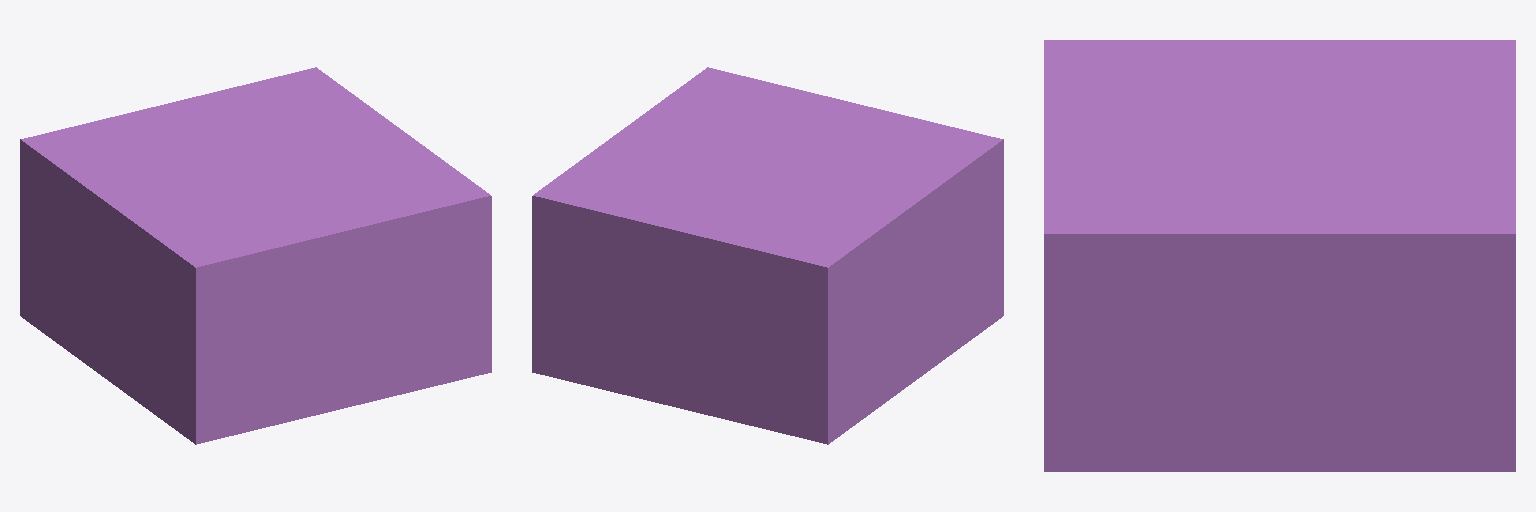
robot.urdf — random_box:
<?xml version='1.0' encoding='UTF-8'?>
<robot name="random_box">
  <link name="box">
    <visual>
      <geometry>
        <box size="0.05246442374089519 0.05382462732634255 0.03"/>
      </geometry>
      <material name="color">
        <color rgba="0.7644910906174824 0.5423491929866385 0.8360857453028946 1"/>
      </material>
    </visual>
    <collision>
      <geometry>
        <box size="0.05246442374089519 0.05382462732634255 0.03"/>
      </geometry>
    </collision>
  </link>
</robot>

--- Render facts (derived) ---
The picture shows the robot from 3 angles, left to right: view 1: azimuth 30°, elevation 25°; view 2: azimuth 150°, elevation 25°; view 3: azimuth 270°, elevation 25°; orthographic projection.
Model random_box with 1 links and 0 joints (none), rooted at box, posed every joint at zero.
Links seen in each view (by area): view 1: box; view 2: box; view 3: box.
Boxes of the visible links, x1,y1,x2,y2 form: box: (20,67,491,444); box: (532,67,1003,444); box: (1044,40,1515,471).
Size in the robot's own frame: 0.0525 by 0.0538 by 0.03 metres.
Geometry: primitives only (box / cylinder / sphere), no mesh files.